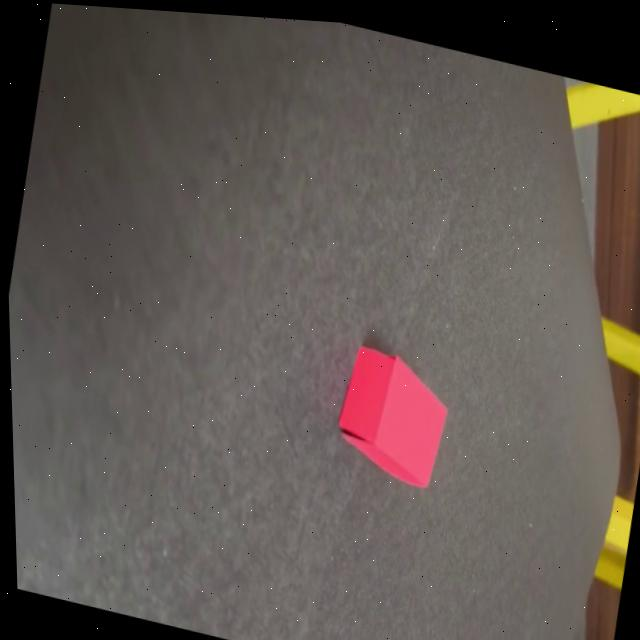red block: (328, 338, 459, 492)
